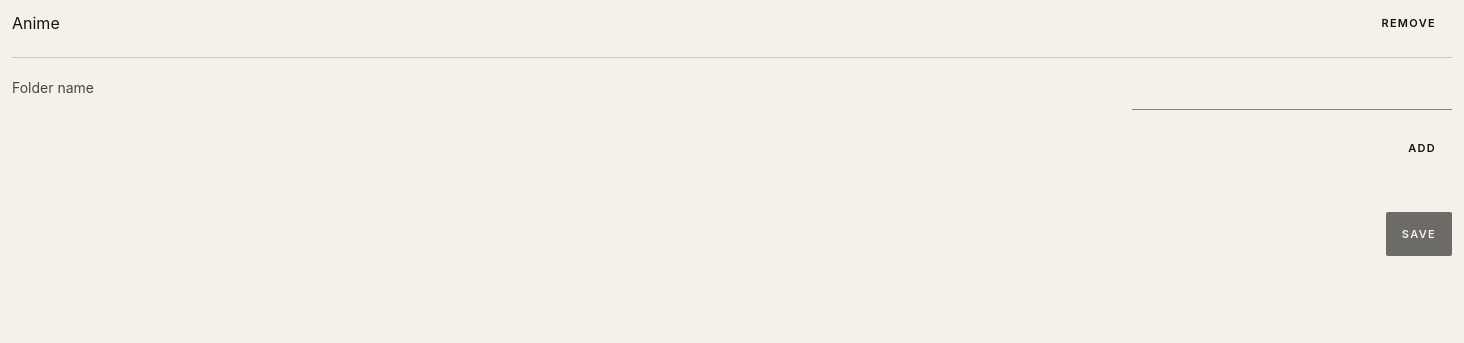
Test: AnimeFolders › builds the list and the field from the shared primitives, and Enter adds
Check: the element "Folder name" is shown, box [12,58,1452,118]
Type "Cartoons" into the field labelled "Folder name" at (1292,88), box [1132,66,1452,110]
Then press Enter
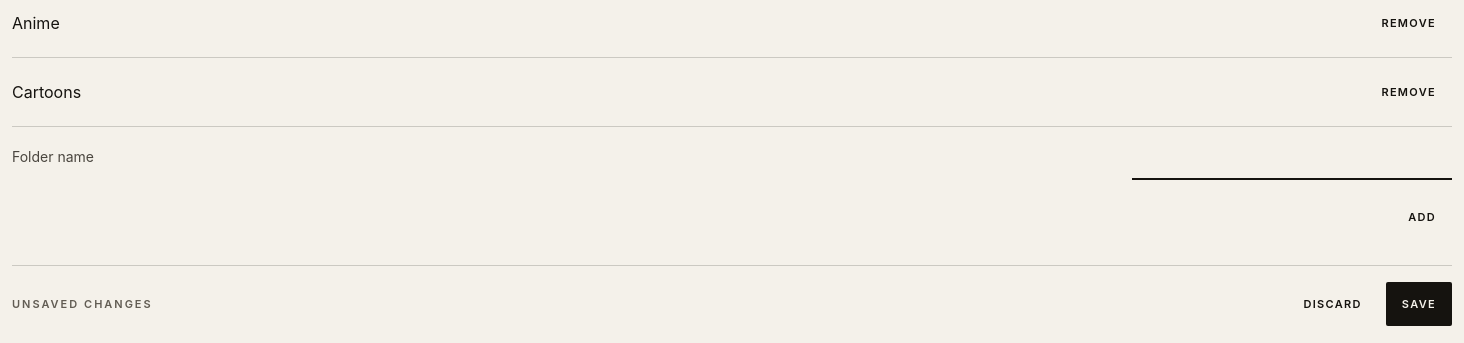
Check: the text "Cartoons" is shown, box [12,82,81,102]
